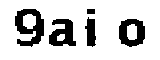9: (9, 5, 44, 49)
a: (47, 18, 79, 50)
i: (83, 4, 101, 51)
o: (117, 15, 146, 49)
